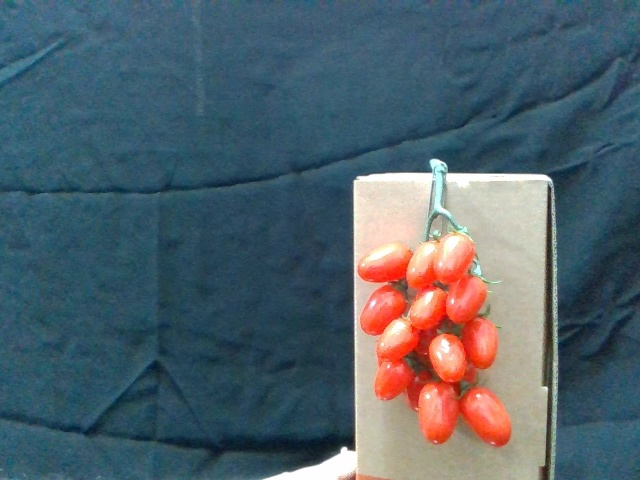tomato: (460, 388, 512, 447), (418, 381, 457, 446), (359, 287, 409, 337), (360, 243, 414, 284), (431, 333, 472, 387), (460, 317, 501, 370), (446, 277, 489, 323), (438, 232, 477, 282), (371, 358, 412, 402), (409, 289, 448, 335), (379, 319, 419, 363), (410, 238, 442, 292)
